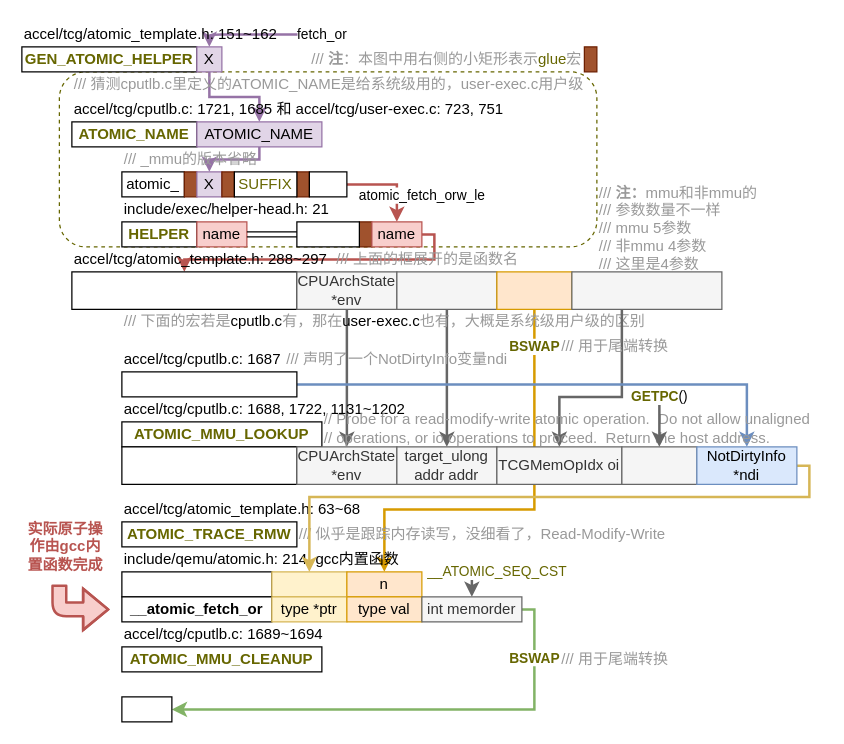
The diagram is 844 pixels wide and 744 high, and some of its shapes have lost their labels. The centre of each missing label's shape, as x and y in pixels:
ABI_TYPE helper_atomic_fetch_orw_le: (184,290)
ABI_TYPE val: (534,290)
atomic_fetch_or: (196,584)
ATOMIC_MMU_DECLS: (209,384)
END: (327,184)
EXTRA_ARGS =TCGMemOpIdx oi: (646,290)
helper_: (327,234)
prt: (309,584)
return: (146,709)
target_ulong addr: (446,290)
uintptr_t retaddr: (659,465)
void * atomic_mmu_lookup: (209,465)
